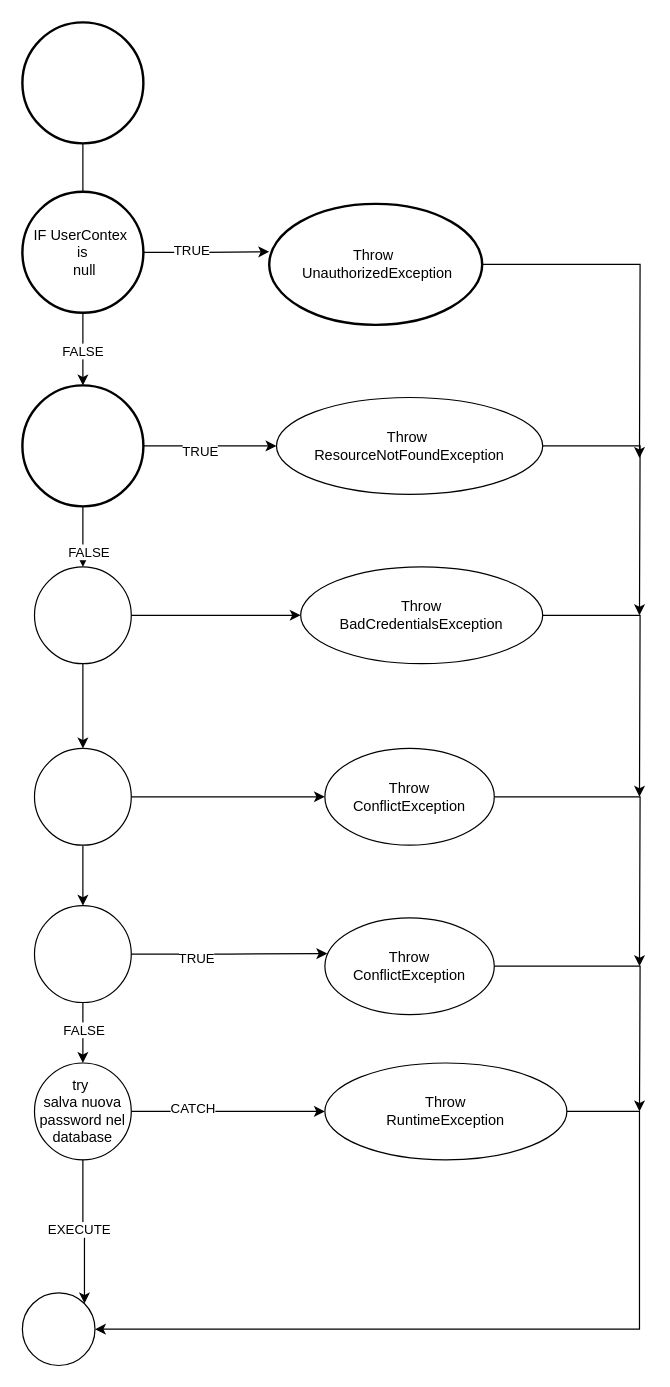
Image size: 670x1387. Some labels were removed from this diagram. Each missing label, with the centre of its shape:
"IF Database User not find" belongs at [82,445].
"IF newPassoword = confirmPassword" belongs at [82,796].
"IF oldPAssword = newPassword" belongs at [82,953].
"IF utente.password = oldPasswor" belongs at [82,615].
